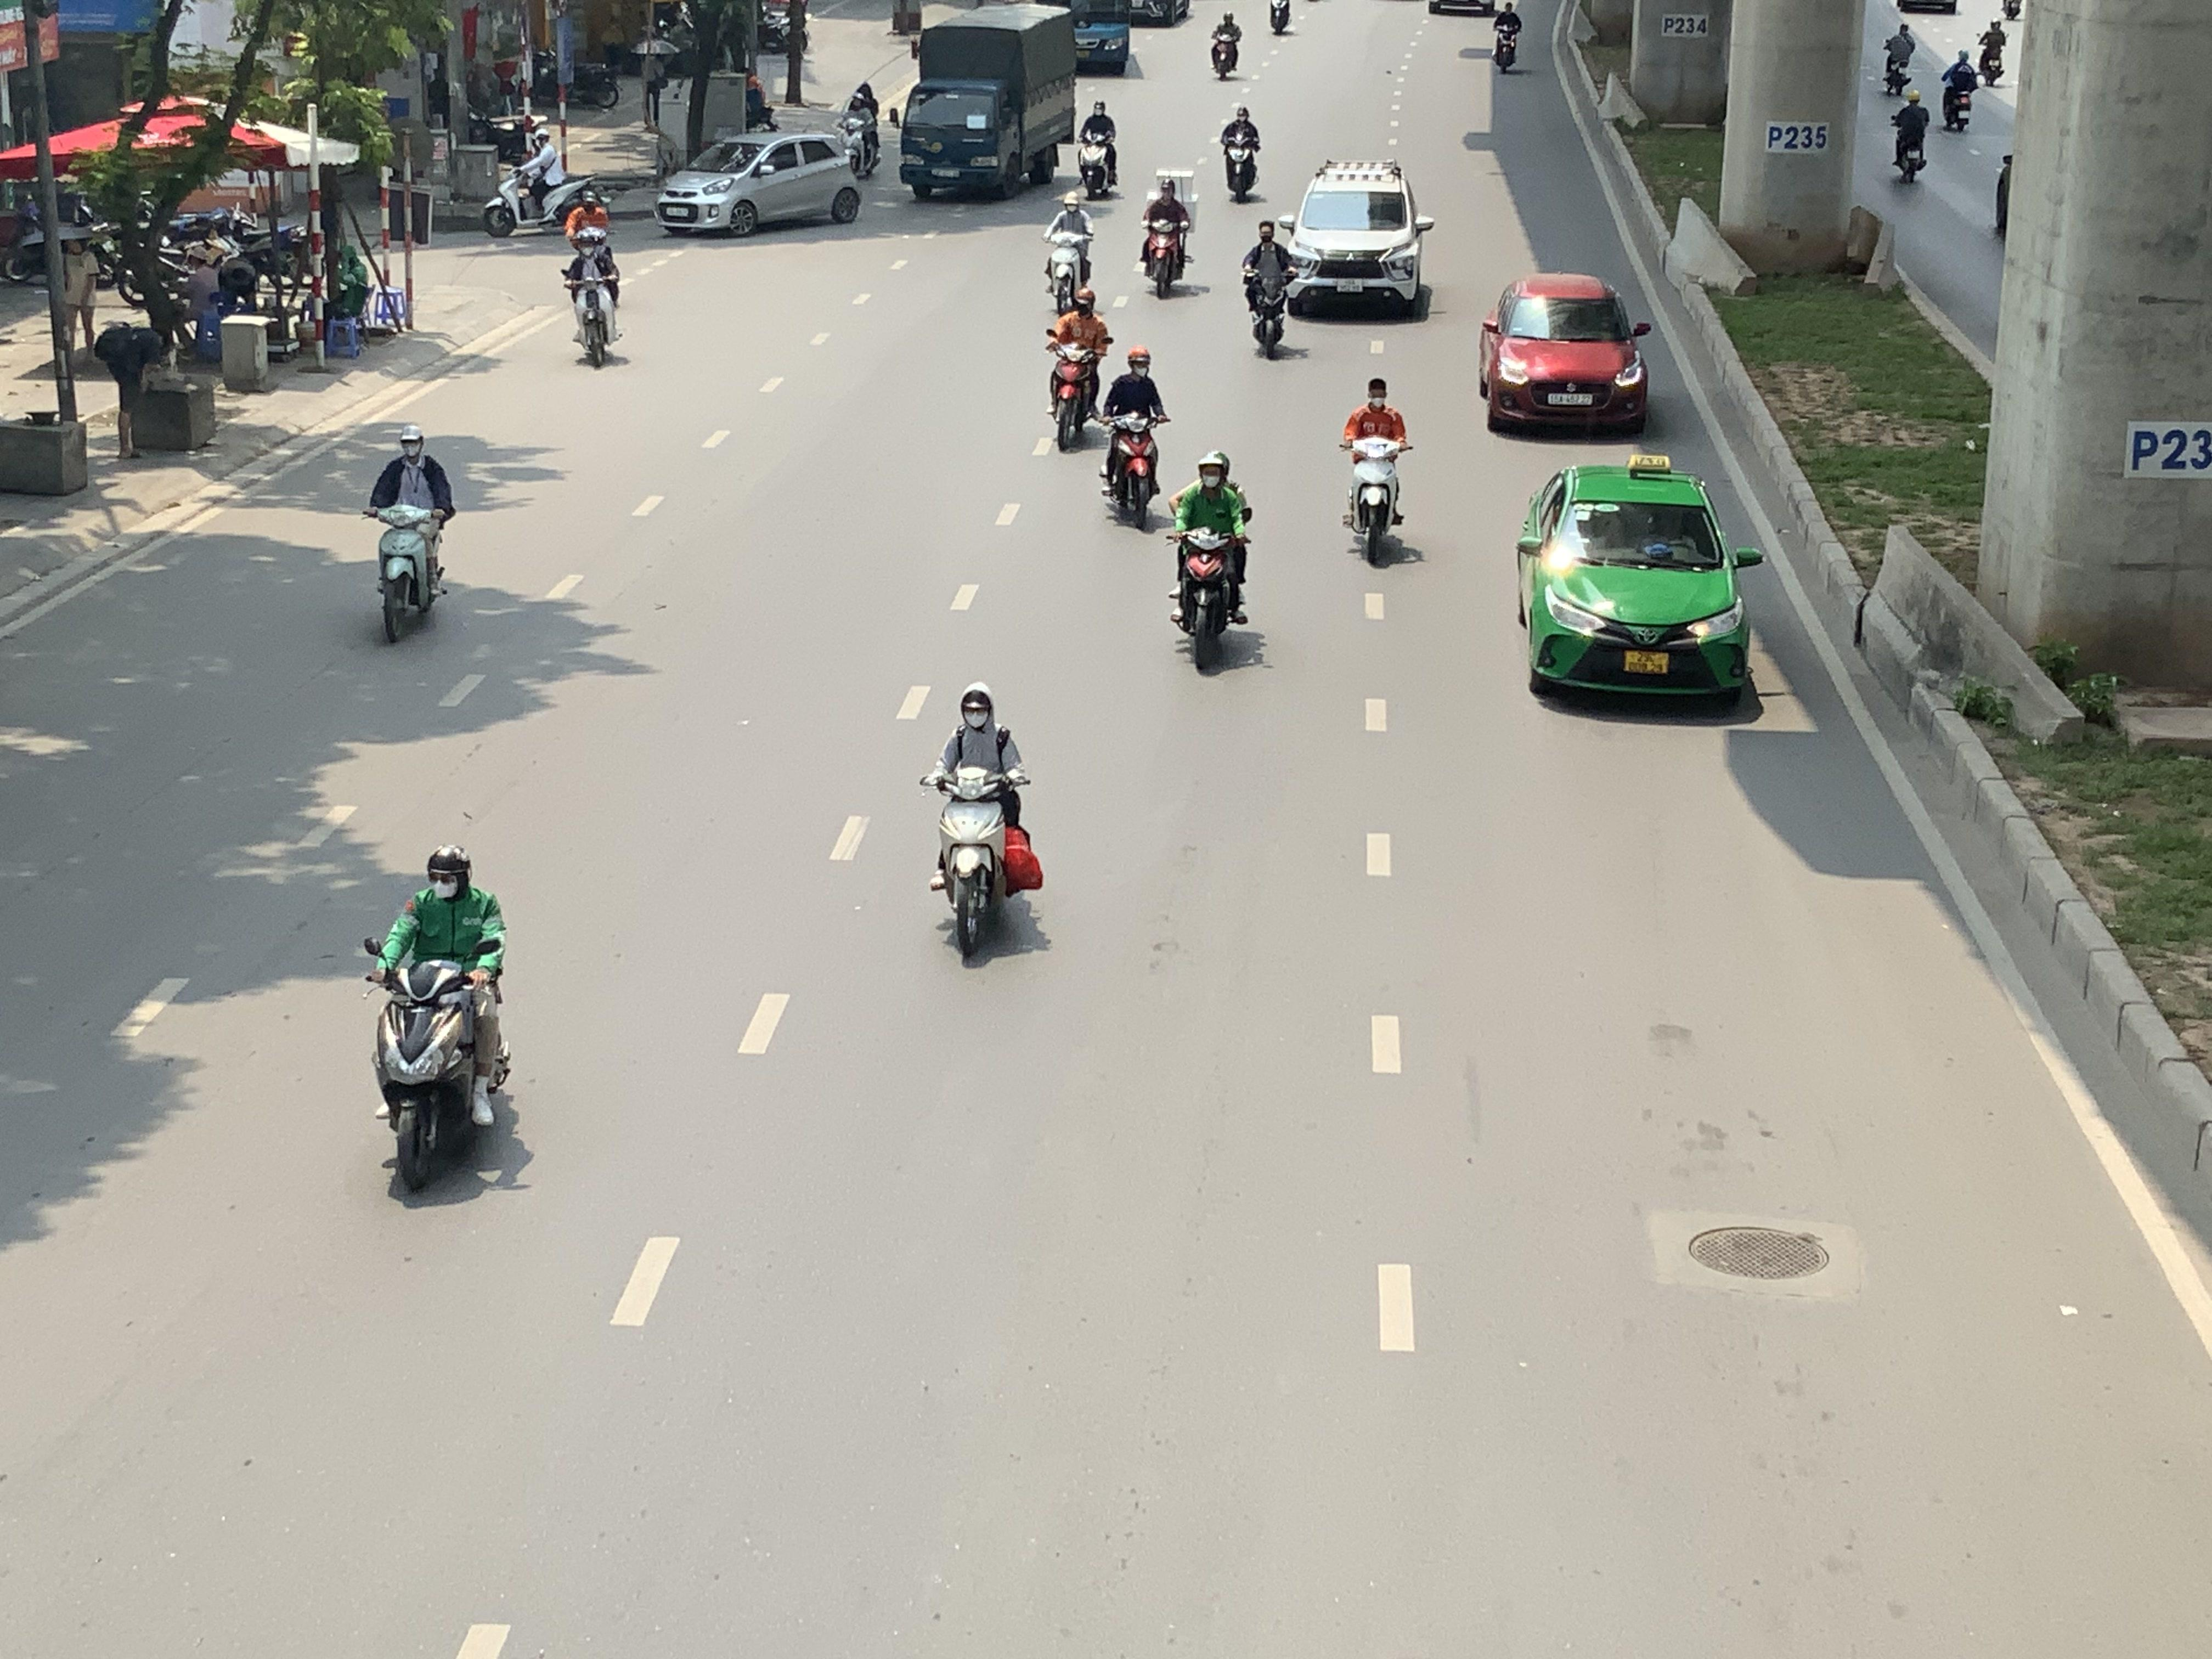BSD: (1547, 392, 1594, 404)
BSV: (1623, 650, 1669, 674)
car: (1514, 458, 1764, 711), (1477, 272, 1653, 437), (1282, 159, 1437, 322), (653, 131, 862, 237)
motorbike: (364, 843, 514, 1199), (923, 685, 1042, 967), (1167, 450, 1252, 676), (368, 423, 453, 645), (1341, 378, 1411, 566), (1099, 349, 1169, 532), (484, 129, 599, 239), (1045, 288, 1111, 451), (563, 227, 624, 368), (1240, 218, 1299, 359), (1139, 173, 1195, 300), (1043, 190, 1097, 312), (1075, 98, 1122, 199), (1217, 103, 1263, 202), (838, 78, 883, 176), (1890, 89, 1930, 183), (1939, 47, 1979, 132), (1881, 21, 1916, 99), (1209, 7, 1244, 82), (1975, 12, 2008, 87), (1491, 0, 1522, 73)
truck: (897, 2, 1078, 202)
